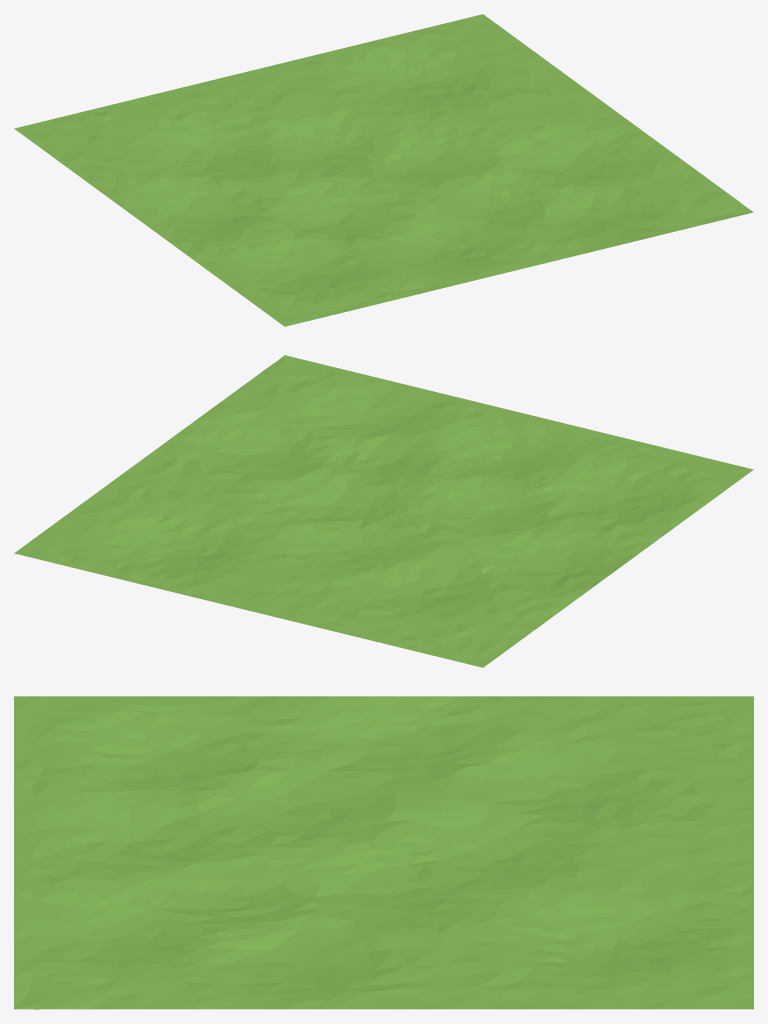
File: MT_Terrain_L_b_03.fbx
The picture shows the model from 3 angles, top to bottom: view 1: azimuth 30°, elevation 25°; view 2: azimuth 150°, elevation 25°; view 3: azimuth 270°, elevation 25°; orthographic projection. The views are drawn at different scales.
Visible parts, largest first — view 1: MT_Terrain_L_b_03; view 2: MT_Terrain_L_b_03; view 3: MT_Terrain_L_b_03.
Part boxes in pixels (bbox=[...]): MT_Terrain_L_b_03: bbox=[14, 14, 753, 326]; MT_Terrain_L_b_03: bbox=[14, 355, 753, 667]; MT_Terrain_L_b_03: bbox=[14, 696, 753, 1009].
Size of the model in its own units: 10000 by 126 by 10000.
